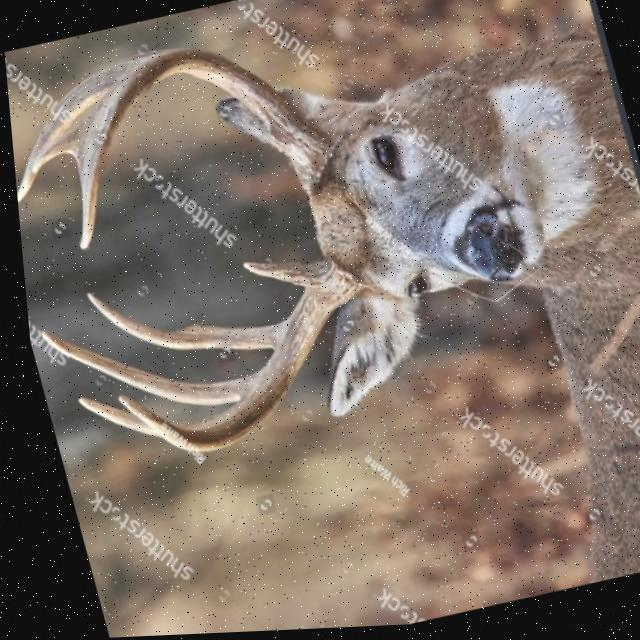E1: (27, 128, 74, 173)
L-F: (70, 48, 337, 251)
R-F: (109, 259, 362, 453)
R-G1: (236, 264, 307, 290)
R-G2: (80, 293, 274, 351)
R-G3: (33, 330, 246, 406)
